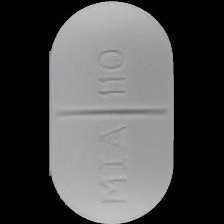50436-4856: (0, 0, 224, 224)
